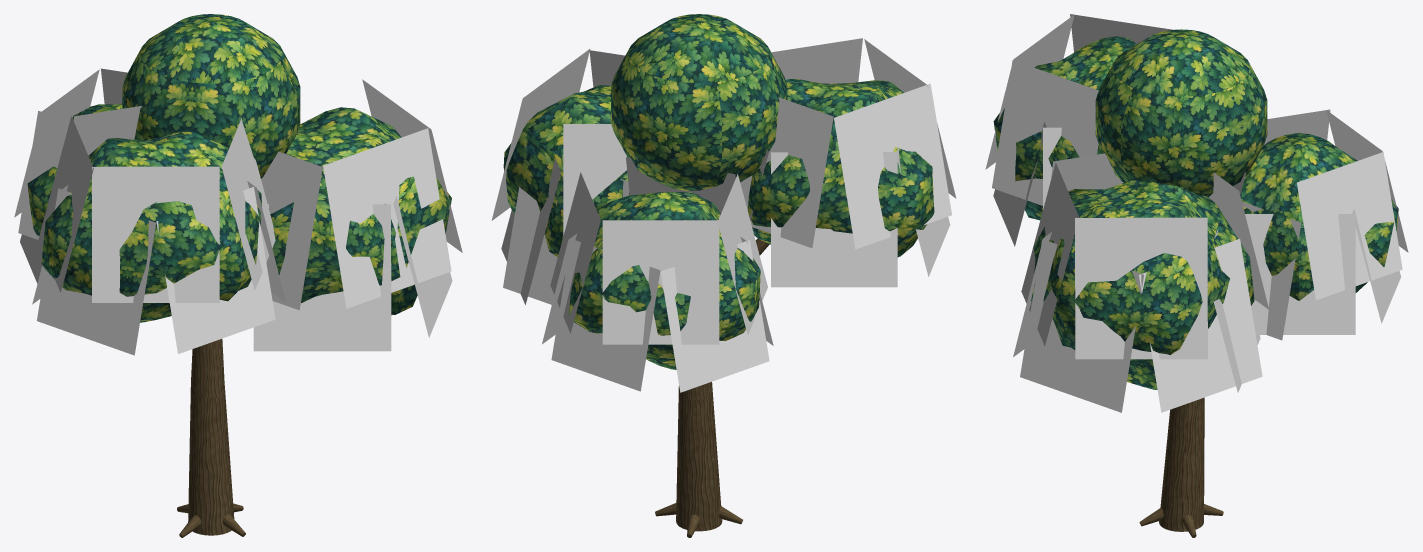
The model's file is NaturalTree_07.fbx.
3 renders of one model, left to right at view 1: azimuth 30°, elevation 25°; view 2: azimuth 150°, elevation 25°; view 3: azimuth 270°, elevation 25°, orthographic. The views are drawn at different scales.
Visible parts, largest first — view 1: NaturalTree_07.001; view 2: NaturalTree_07.001; view 3: NaturalTree_07.001.
Boxes of the visible parts, <box> form: NaturalTree_07.001: <box>14,14,462,537</box>; NaturalTree_07.001: <box>491,14,956,537</box>; NaturalTree_07.001: <box>985,14,1408,537</box>.
Size of the model in its own units: 653 by 761 by 602.
3 materials, 2 textured.
